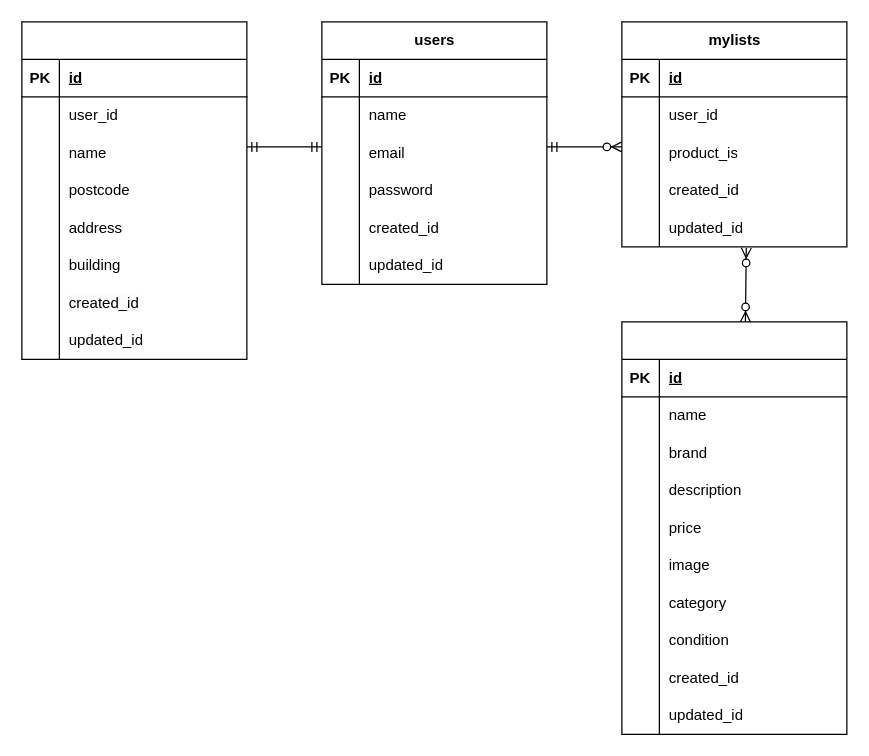
The diagram is 869 pixels wide and 756 high, and some of its shapes have lost their labels. The shapes that lost their labels are listed below. From the top down, each one's box as (x1, y1, x2, y2) in pixels, then its label:
(21, 21, 247, 359): profiles
(621, 321, 847, 734): products
